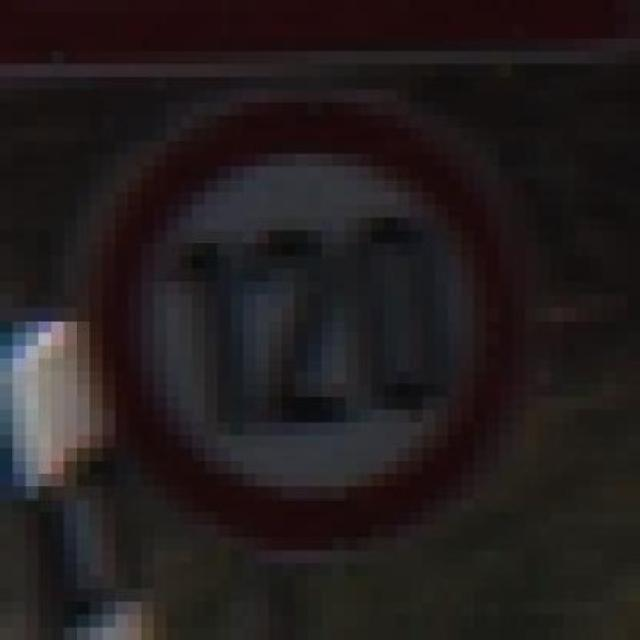forb_speed_over_120: (97, 99, 515, 553)
